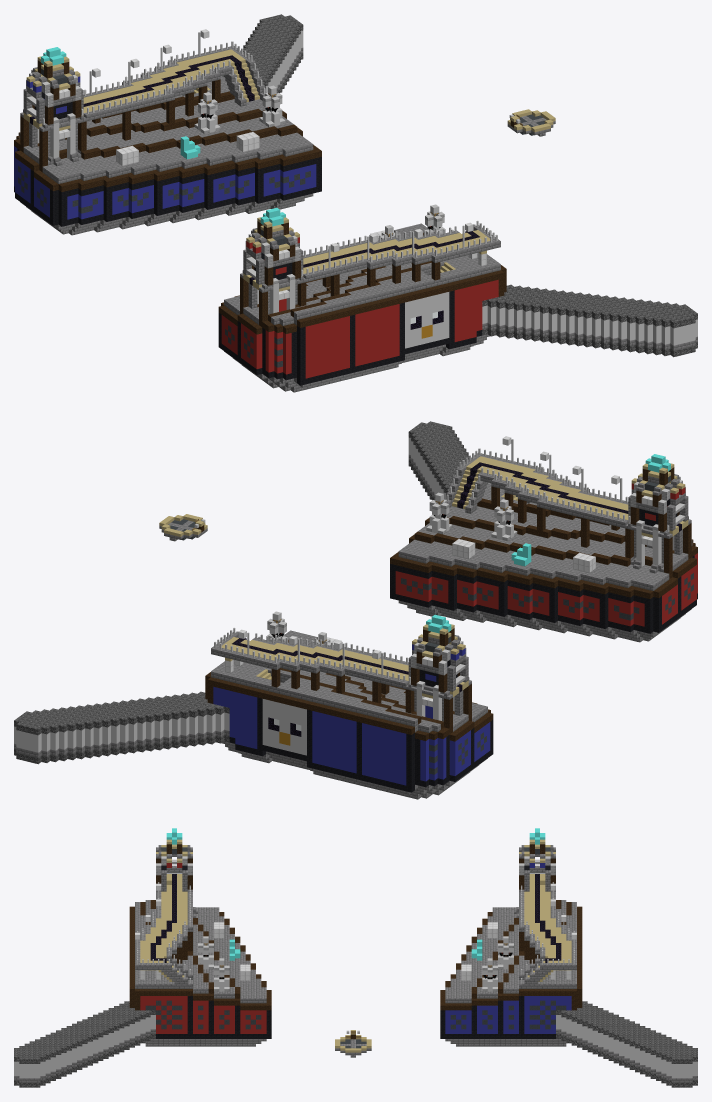
The model's file is minecraft.obj.
The picture shows the model from 3 angles, top to bottom: view 1: azimuth 30°, elevation 25°; view 2: azimuth 150°, elevation 25°; view 3: azimuth 270°, elevation 25°; orthographic projection. The views are drawn at different scales.
Bounding box in the file's own units: 75 × 29 × 130.
